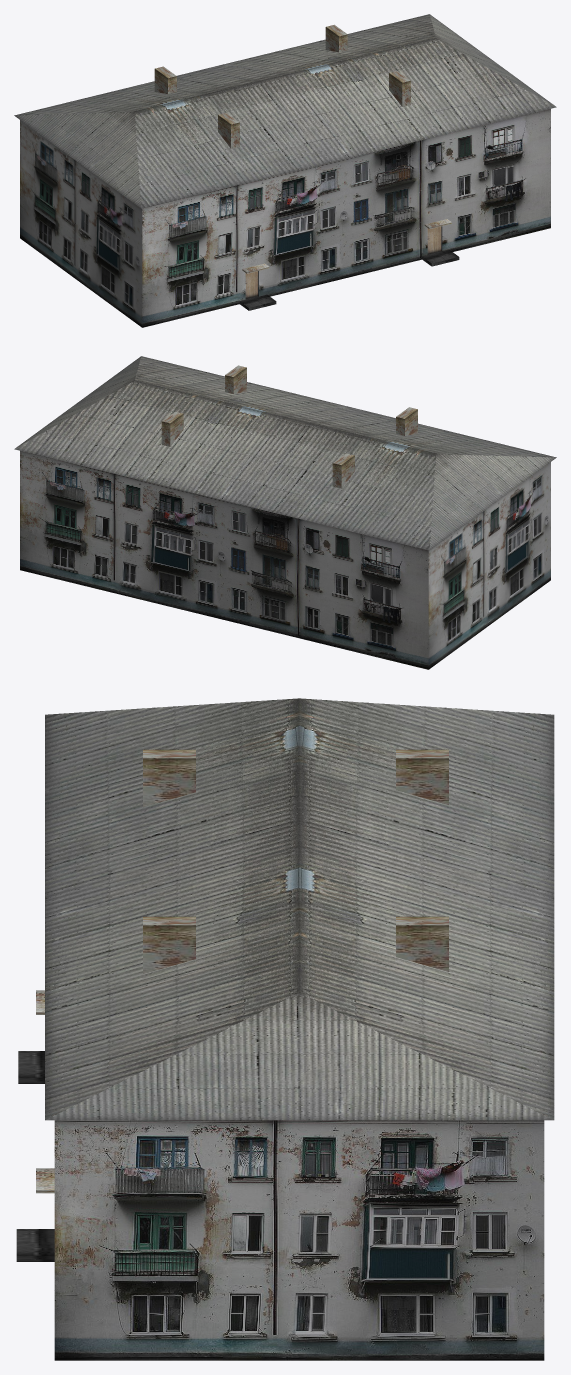
Rendered from minihouse_8.fbx.
3 views of the same model, one above another, from view 1: azimuth 30°, elevation 25°; view 2: azimuth 150°, elevation 25°; view 3: azimuth 270°, elevation 25° (orthographic). The views are drawn at different scales.
Visible parts, largest first — view 1: f5a1f474-8ff4-4187-83ee-65b73643005a; view 2: f5a1f474-8ff4-4187-83ee-65b73643005a; view 3: f5a1f474-8ff4-4187-83ee-65b73643005a.
Boxes of the visible parts, box(x1,y1,x2,y2) form: f5a1f474-8ff4-4187-83ee-65b73643005a: box(14, 14, 556, 327); f5a1f474-8ff4-4187-83ee-65b73643005a: box(14, 356, 556, 669); f5a1f474-8ff4-4187-83ee-65b73643005a: box(16, 698, 554, 1360).
Bounding box in the file's own units: 29.83 × 10.99 × 16.7.
1 material, 1 textured.
